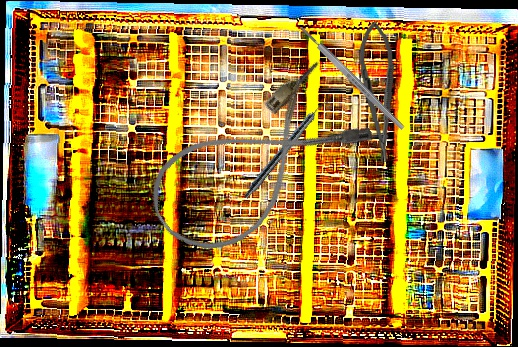Cannula: (133, 55, 380, 273)
Handpiece: (242, 95, 331, 202)
Needle Holder: (355, 20, 402, 164)
Scalpel Handle: (298, 24, 406, 132)
